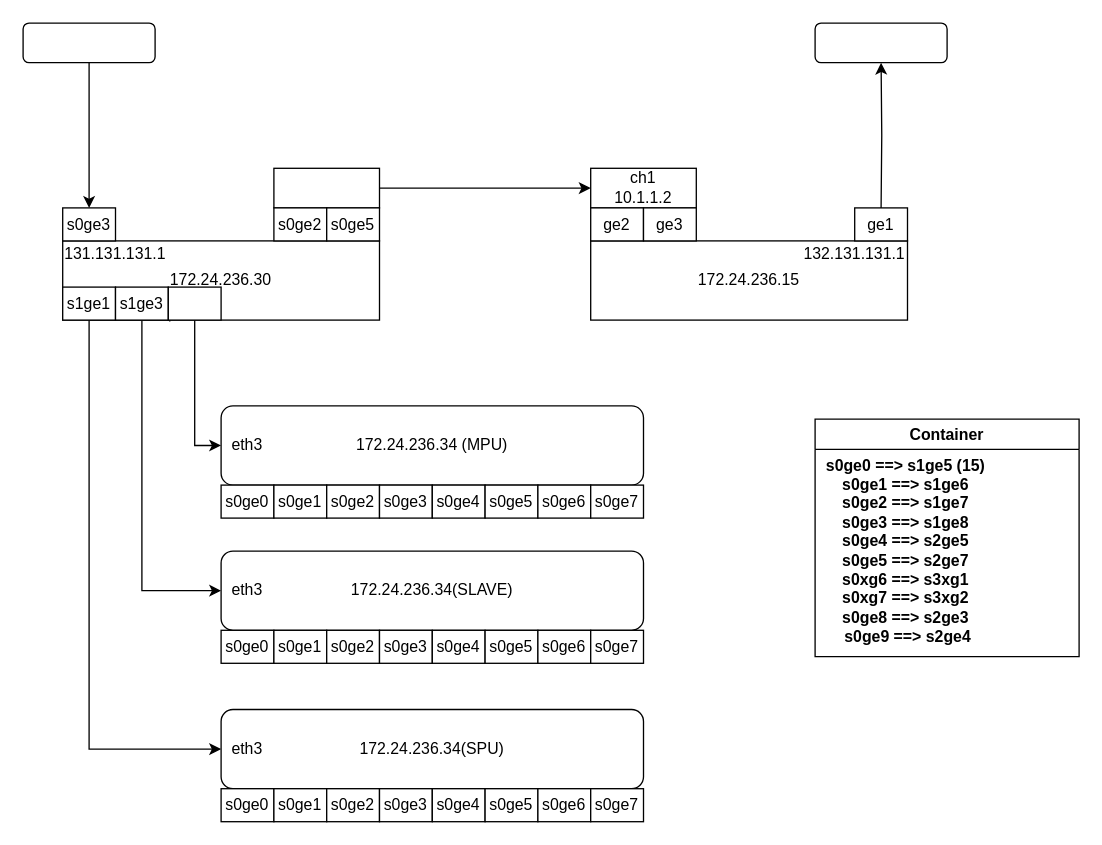
This 1102x845 diagram has some shape labels left out. Each missing label, with the centre of its shape:
"ch1 10.1.1.1" goes at point 326,187.
"PC 131.131.131.14" goes at point 88,42.
"PC 132.131.131.2" goes at point 880,42.
"s1ge2" goes at point 194,303.
